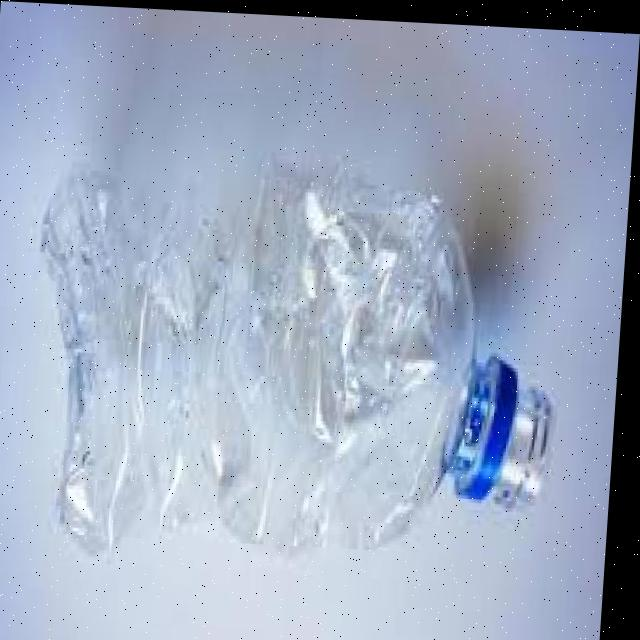bottle: (0, 92, 604, 616)
